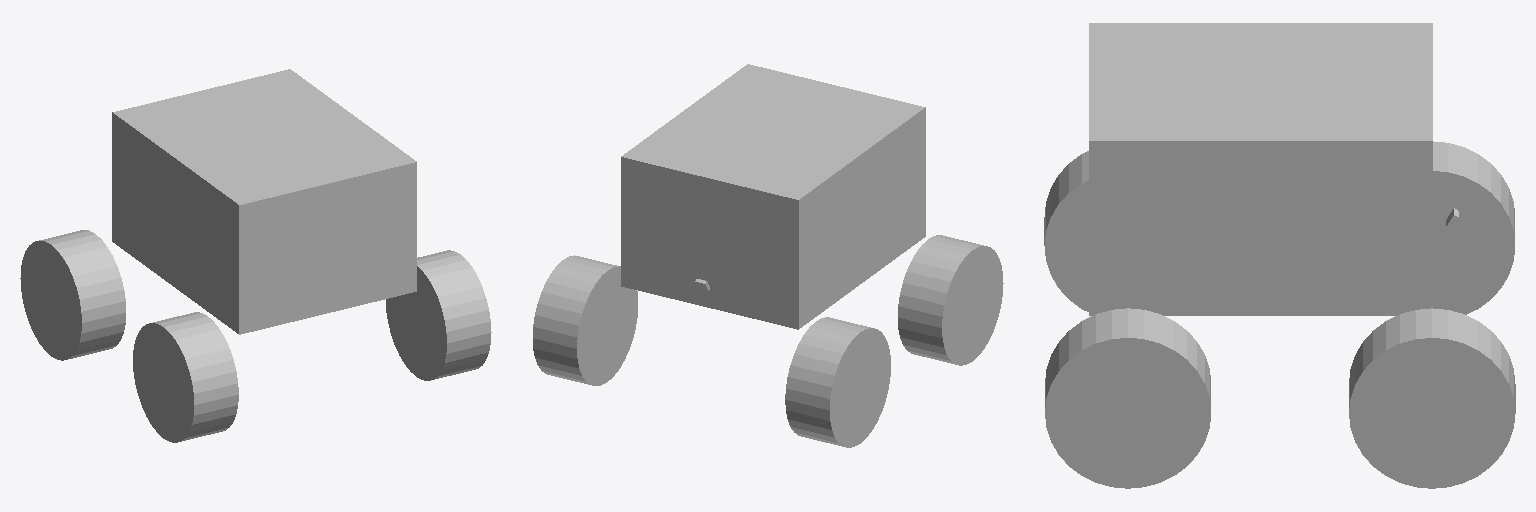
robot.urdf — rover:
<?xml version='1.0'?>
<robot name="rover" version="1.0">
  
  <!-- Joint Definitions -->
  <joint name="base_footprint_joint" type="fixed">
    <parent link="base_link"/>
    <child link="base_footprint"/>
    <origin xyz="0 0 0" rpy="0 0 0"/>
  </joint>

  <link name="base_footprint">
  </link>
  <link name="base_link">
  </link>

  <joint name="chassis_joint" type="fixed">
    <origin rpy="0.0 0.0 0.0" xyz="0.0 0.0 0.45"/>
    <parent link="base_link"/>
    <child link="chassis_link"/>
    <origin xyz="0 0 0"/>
  </joint>

  <!-- WHEEL JOINTS -->
  <joint name="back_left_wheel_link_joint" type="continuous">
    <limit effort="1.5" velocity="20"/>
    <origin rpy="0.000000 -1.570796 0.000000" xyz="-0.001015 0.000984 -0.224364"/>
    <parent link="back_left_wheel_connection_link"/>
    <child link="back_left_wheel_link"/>
    <axis xyz="0.000000 0.000000 1.000000"/>
  </joint>
  <joint name="back_right_wheel_link_joint" type="continuous">
    <limit effort="1.5" velocity="20"/>
    <origin rpy="0.000000 -1.570796 0.000000" xyz="-0.001015 0.000984 -0.224364"/>
    <parent link="back_right_wheel_connection_link"/>
    <child link="back_right_wheel_link"/>
    <axis xyz="0.000000 0.000000 1.000000"/>
  </joint>
  <joint name="front_left_wheel_link_joint" type="continuous">
    <limit effort="1.5" velocity="20"/>
    <origin rpy="0.000000 -1.570796 0.000000" xyz="-0.001015 0.000984 -0.224364"/>
    <parent link="front_left_wheel_connection_link"/>
    <child link="front_left_wheel_link"/>
    <axis xyz="0.000000 0.000000 1.000000"/>
  </joint>
  <joint name="front_right_wheel_link_joint" type="continuous">
    <limit effort="1.5" velocity="20"/>
    <origin rpy="0.000000 -1.570796 0.000000" xyz="-0.001015 0.000984 -0.224364"/>
    <parent link="front_right_wheel_connection_link"/>
    <child link="front_right_wheel_link"/>
    <axis xyz="0.000000 0.000000 1.000000"/>
  </joint>

  <!-- CONNECTION JOINTS -->
  <joint name="back_right_wheel_connection_link_joint" type="continuous">
    <limit effort="5" lower="-2.1" upper="2.1" velocity="6.28"/>
    <origin rpy="-0.000000 1.570796 0.000000" xyz="-0.039199 0.277668 0.039794"/>
    <parent link="right_rocker_link"/>
    <child link="back_right_wheel_connection_link"/>
    <axis xyz="0.000000 0.000000 1.000000"/>
  </joint>
  <joint name="front_left_wheel_connection_link_joint" type="continuous">
    <limit effort="5" lower="-2.1" upper="2.1" velocity="6.28"/>
    <origin rpy="-0.000000 1.570796 0.000000" xyz="-0.040213 -0.279250 -0.041051"/>
    <parent link="left_rocker_link"/>
    <child link="front_left_wheel_connection_link"/>
    <axis xyz="0.000000 0.000000 1.000000"/>
  </joint>
  <joint name="front_right_wheel_connection_link_joint" type="continuous">
    <limit effort="5" lower="-2.1" upper="2.1" velocity="6.28"/>
    <origin rpy="-0.000000 1.570796 0.000000" xyz="-0.039199 -0.279811 0.039779"/>
    <parent link="right_rocker_link"/>
    <child link="front_right_wheel_connection_link"/>
    <axis xyz="0.000000 0.000000 1.000000"/>
  </joint>
  <joint name="back_left_wheel_connection_link_joint" type="continuous">
    <limit effort="5" lower="-2.1" upper="2.1" velocity="6.28"/>
    <origin rpy="-0.000000 1.570796 0.000000" xyz="-0.040213 0.277630 -0.040843"/>
    <parent link="left_rocker_link"/>
    <child link="back_left_wheel_connection_link"/>
    <axis xyz="0.000000 0.000000 1.000000"/>
  </joint>

  <!-- ROCKER JOINT -->
  <joint name="left_rocker_link_joint" type="fixed">
    <!-- <limit lower="-1.000000" upper="1.000000" effort="0.000000" velocity="0.000000"/> -->
    <origin rpy="0.000000 -1.570796 0.000000" xyz="0.316939 0.035009 -0.031693"/>
    <parent link="chassis_link"/>
    <child link="left_rocker_link"/>
    <axis xyz="0.000000 0.000000 1.000000"/>
  </joint>
  <joint name="right_rocker_link_joint" type="fixed">
    <!-- <limit lower="-1.000000" upper="1.000000" effort="0.000000" velocity="0.000000"/> -->
    <origin rpy="0.000000 -1.570796 0.000000" xyz="-0.326391 0.034904 -0.032707"/>
    <parent link="chassis_link"/>
    <child link="right_rocker_link"/>
    <axis xyz="0.000000 0.000000 1.000000"/>
  </joint>

  <!-- Link Definitions -->
  <link name="back_left_wheel_connection_link">
    <collision name="back_left_wheel_connection_collision">
      <origin rpy="0.000000 0.000000 0.000000" xyz="-0.000000 -0.000000 -0.000000"/>
      <geometry>
        <mesh filename="file://[local-path]/FLARE_ws/src/rover/meshes/dae/rover_assm.263.dae" scale="0.001020 0.001020 0.001020"/>
      </geometry>
    </collision>
    <inertial>
      <inertia ixx="0.007968" ixy="0.000000" ixz="0.000000" iyy="0.006673" iyz="-0.002185" izz="0.001483"/>
      <origin rpy="0.000000 0.000000 0.000000" xyz="-0.034999 -0.000141 -0.080752"/>
      <mass value="1.000000"/>
    </inertial>
    <visual name="back_left_wheel_connection">
      <origin rpy="0.000000 0.000000 0.000000" xyz="0.000000 -0.000000 0.000000"/>
      <material name="RockerMat"/>
      <geometry>
        <mesh filename="file://[local-path]/FLARE_ws/src/rover/meshes/dae/rover_assm.266.dae" scale="0.001020 0.001020 0.001020"/>
      </geometry>
    </visual>
  </link>
  <gazebo reference="back_left_wheel_connection_link">
    <material>Gazebo/Blue</material>
  </gazebo>
  <link name="back_left_wheel_link">
    <collision name="back_left_wheel_collision">
      <origin rpy="-3.141593 -0.000000 -3.141593" xyz="-0.000149 -0.000000 -0.000229"/>
      <geometry>
        <cylinder radius="0.152590" length="0.127483"/>
      </geometry>
    </collision>
    <inertial>
      <inertia ixx="0.045943" ixy="-0.000000" ixz="0.000000" iyy="0.064649" iyz="0.000000" izz="0.064499"/>
      <origin rpy="0.000000 0.000000 0.000000" xyz="0.000000 0.000000 0.000000"/>
      <mass value="1.000000"/>
    </inertial>
    <visual name="back_left_wheel">
      <origin rpy="-3.141593 -0.000000 -3.141593" xyz="-0.000 -0.000000 -0.000"/>
      <material name="Dirty Chrome"/>
      <geometry>
        <cylinder radius="0.152590" length="0.127483"/>
      </geometry>
    </visual>
  </link>
  <gazebo reference="back_left_wheel_link">
    <material>Gazebo/Black</material>
  </gazebo>
  <link name="back_right_wheel_link">
    <collision name="back_right_wheel_collision">
      <origin rpy="-3.141593 -0.000000 -3.141593" xyz="-0.000000 0.000000 0.000000"/>
      <geometry>
        <cylinder radius="0.152590" length="0.127483"/>
      </geometry>
    </collision>
    <inertial>
      <inertia ixx="0.045943" ixy="-0.000000" ixz="0.000000" iyy="0.064649" iyz="0.000000" izz="0.064499"/>
      <origin rpy="0.000000 0.000000 0.000000" xyz="0.000000 0.000000 0.000000"/>
      <mass value="1.000000"/>
    </inertial>
    <visual name="back_right_wheel">
      <origin rpy="-3.141593 -0.000000 -3.141593" xyz="0.000000 0.000000 -0.000000"/>
      <material name="Dirty Chrome"/>
      <geometry>
        <cylinder radius="0.152590" length="0.127483"/>
      </geometry>
    </visual>
  </link>
  <gazebo reference="back_right_wheel_link">
    <material>Gazebo/Black</material>
  </gazebo>
  <link name="back_right_wheel_connection_link">
    <collision name="back_right_wheel_connection_collision">
      <origin rpy="0.000000 0.000000 0.000000" xyz="-0.000000 0.000000 0.000000"/>
      <geometry>
        <mesh filename="file://[local-path]/FLARE_ws/src/rover/meshes/dae/rover_assm.273.dae" scale="0.001020 0.001020 0.001020"/>
      </geometry>
    </collision>
    <inertial>
      <inertia ixx="0.007971" ixy="0.000000" ixz="-0.000000" iyy="0.006675" iyz="0.002187" izz="0.001484"/>
      <origin rpy="0.000000 0.000000 0.000000" xyz="0.033951 -0.000071 -0.080752"/>
      <mass value="1.000000"/>
    </inertial>
    <visual name="back_right_wheel_connection">
      <origin rpy="0.000000 0.000000 0.000000" xyz="0.000000 -0.000000 0.000000"/>
      <material name="RockerMat"/>
      <geometry>
        <mesh filename="file://[local-path]/FLARE_ws/src/rover/meshes/dae/rover_assm.272.dae" scale="0.001020 0.001020 0.001020"/>
      </geometry>
    </visual>
  </link>
  <gazebo reference="back_right_wheel_connection_link">
    <material>Gazebo/Blue</material>
  </gazebo>
  <link name="chassis_link">
    <collision name="chassis_collision">
      <origin rpy="0.000000 0.000000 -0.000000" xyz="-0.000000 0.036421 0.000000"/>
      <geometry>
        <box size="0.509469 0.629976 0.354739"/>
      </geometry>
    </collision>
    <inertial>
      <inertia ixx="0.045943" ixy="-0.000000" ixz="0.000000" iyy="0.064649" iyz="0.000000" izz="0.064499"/>
      <origin rpy="0.000000 0.000000 0.000000" xyz="0.000000 0.000000 0.000000"/>
      <mass value="1.000000"/>
    </inertial>
    <visual name="chassis">
      <origin rpy="0.000000 0.000000 0.000000" xyz="0.000000 0.000000 0.000000"/>
      <material name="MLI Foil for chassis"/>
      <geometry>
        <box size="0.509469 0.629976 0.354739"/>
      </geometry>
    </visual>
  </link>
  <gazebo reference="chassis_link">
    <material>Gazebo/Orange</material>
  </gazebo>
  <link name="front_left_wheel_connection_link">
    <collision name="front_left_wheel_connection_collision">
      <origin rpy="0.000000 0.000000 0.000000" xyz="0.000000 -0.000000 0.000000"/>
      <geometry>
        <mesh filename="file://[local-path]/FLARE_ws/src/rover/meshes/dae/rover_assm.266.dae" scale="0.001020 0.001020 0.001020"/>
      </geometry>
    </collision>
    <inertial>
      <inertia ixx="0.007968" ixy="0.000000" ixz="0.000000" iyy="0.006673" iyz="-0.002185" izz="0.001483"/>
      <origin rpy="0.000000 0.000000 0.000000" xyz="-0.035207 0.000317 -0.080752"/>
      <mass value="1.000000"/>
    </inertial>
    <visual name="front_left_wheel_connection">
      <origin rpy="0.000000 0.000000 0.000000" xyz="0.000000 -0.000000 0.000000"/>
      <material name="RockerMat"/>
      <geometry>
        <mesh filename="file://[local-path]/FLARE_ws/src/rover/meshes/dae/rover_assm.266.dae" scale="0.001020 0.001020 0.001020"/>
      </geometry>
    </visual>
  </link>
  <gazebo reference="front_left_wheel_connection_link">
    <material>Gazebo/Blue</material>
  </gazebo>
  <link name="front_left_wheel_link">
    <collision name="front_left_wheel_collision">
      <origin rpy="-3.141593 -0.000000 -3.141593" xyz="0.000149 -0.000000 0.000229"/>
      <geometry>
        <cylinder radius="0.152957" length="0.127790"/>
      </geometry>
    </collision>
    <inertial>
      <inertia ixx="0.008751" ixy="-0.000000" ixz="0.000000" iyy="0.008751" iyz="0.000000" izz="0.002031"/>
      <origin rpy="0.000000 0.000000 0.000000" xyz="0.000148 -0.000000 0.000229"/>
      <mass value="1.000000"/>
    </inertial>
    <visual name="front_left_wheel">
      <origin rpy="-3.141593 -0.000000 -3.141593" xyz="0.000149 -0.000000 0.000229"/>
      <material name="Dirty Chrome"/>
      <geometry>
        <cylinder radius="0.152590" length="0.127483"/>
      </geometry>
    </visual>
  </link>
  <gazebo reference="front_left_wheel_link">
    <material>Gazebo/Black</material>
  </gazebo>
  <link name="front_right_wheel_connection_link">
    <collision name="front_right_wheel_connection_collision">
      <origin rpy="0.000000 0.000000 0.000000" xyz="0.000000 -0.000000 0.000000"/>
      <geometry>
        <mesh filename="file://[local-path]/FLARE_ws/src/rover/meshes/dae/rover_assm.272.dae" scale="0.001020 0.001020 0.001020"/>
      </geometry>
    </collision>
    <inertial>
      <inertia ixx="0.007971" ixy="0.000000" ixz="-0.000000" iyy="0.006675" iyz="0.002187" izz="0.001484"/>
      <origin rpy="0.000000 0.000000 0.000000" xyz="0.033936 0.000985 -0.080752"/>
      <mass value="1.000000"/>
    </inertial>
    <visual name="front_right_wheel_connection">
      <origin rpy="0.000000 0.000000 -0.000000" xyz="0.000000 -0.000000 0.000000"/>
      <material name="RockerMat"/>
      <geometry>
        <mesh filename="file://[local-path]/FLARE_ws/src/rover/meshes/dae/rover_assm.272.dae" scale="0.001020 0.001020 0.001020"/>
      </geometry>
    </visual>
  </link>
  <gazebo reference="front_right_wheel_connection_link">
    <material>Gazebo/Blue</material>
  </gazebo>
  <link name="front_right_wheel_link">
    <collision name="front_right_wheel_collision">
      <origin rpy="0.000000 -0.000000 -0.000000" xyz="-0.001154 -0.000002 -0.000037"/>
      <geometry>
        <cylinder radius="0.151841" length="0.126857"/>
      </geometry>
    </collision>
    <inertial>
      <inertia ixx="0.008751" ixy="0.000000" ixz="0.000000" iyy="0.008751" iyz="-0.000000" izz="0.002031"/>
      <origin rpy="0.000000 0.000000 0.000000" xyz="0.000000 -0.000000 0.000000"/>
      <mass value="1.000000"/>
    </inertial>
    <visual name="front_right_wheel">
      <origin rpy="-3.141593 -0.000000 -3.141593" xyz="0.000000 -0.000000 0.000000"/>
      <material name="Dirty Chrome"/>
      <geometry>
        <cylinder radius="0.152590" length="0.127483"/>
      </geometry>
    </visual>
  </link>
  <gazebo reference="front_right_wheel_link">
    <material>Gazebo/Black</material>
  </gazebo>
  <link name="left_rocker_link">
    <collision name="left_rocker_collision">
      <origin rpy="-0.000000 1.570796 0.000000" xyz="-0.000000 -0.000000 0.000000"/>
      <geometry>
        <mesh filename="file://[local-path]/FLARE_ws/src/rover/meshes/dae/rover_assm.277.dae" scale="0.001020 0.001020 0.001020"/>
      </geometry>
    </collision>
    <inertial>
      <inertia ixx="0.001331" ixy="-0.000094" ixz="0.000210" iyy="0.031629" iyz="0.000565" izz="0.031481"/>
      <origin rpy="0.000000 0.000000 0.000000" xyz="-0.042253 0.002366 -0.001819"/>
      <mass value="1.000000"/>
    </inertial>
    <visual name="left_rocker">
      <origin rpy="-0.000000 1.570796 0.000000" xyz="-0.000000 -0.000000 0.000000"/>
      <material name="RockerMat"/>
      <geometry>
        <mesh filename="file://[local-path]/FLARE_ws/src/rover/meshes/dae/rover_assm.277.dae" scale="0.001020 0.001020 0.001020"/>
      </geometry>
    </visual>
  </link>
  <gazebo reference="left_rocker_link">
    <material>Gazebo/White</material>
  </gazebo>
  <link name="right_rocker_link">
    <collision name="right_rocker_collision">
      <origin rpy="0.000000 1.570796 0.000000" xyz="-0.000000 0.000000 -0.000000"/>
      <geometry>
        <mesh filename="file://[local-path]/FLARE_ws/src/rover/meshes/dae/rover_assm.267.dae" scale="0.001020 0.001020 0.001020"/>
      </geometry>
    </collision>
    <inertial>
      <inertia ixx="0.001330" ixy="0.000096" ixz="0.000215" iyy="0.031632" iyz="-0.000565" izz="0.031485"/>
      <origin rpy="0.000000 0.000000 0.000000" xyz="-0.041239 0.002470 0.001819"/>
      <mass value="1.000000"/>
    </inertial>
    <visual name="right_rocker">
      <origin rpy="-0.000000 1.570796 0.000000" xyz="-0.000000 0.000000 -0.000000"/>
      <material name="RockerMat"/>
      <geometry>
        <mesh filename="file://[local-path]/FLARE_ws/src/rover/meshes/dae/rover_assm.267.dae" scale="0.001020 0.001020 0.001020"/>
      </geometry>
    </visual>
  </link>
  <gazebo reference="right_rocker_link">
    <material>Gazebo/White</material>
  </gazebo>

  <!-- Lidar -->
  <!-- <joint name="laser_joint" type="fixed">
    <parent link="chassis_link"/>
    <child link="laser_frame"/>
    <origin xyz="0 0.27 0.2" rpy="0 0 0"/>
  </joint>

  <link name="laser_frame">
    <visual>
      <geometry>
        <cylinder radius="0.05" length="0.04"/>
      </geometry>
    </visual>
    <collision>
      <geometry>
        <cylinder radius="0.05" length="0.04"/>
      </geometry>
    </collision>
    <inertial>
      <inertia ixx="4.17e-05" ixy="0.0" ixz="0.0" iyy="4.17e-05" iyz="0.0" izz="1.25e-06"/>
      <origin xyz="0 0 0" rpy="0 0 0"/>
      <mass value="0.050"/>
    </inertial>
  </link> -->
  
  <!-- <gazebo reference="laser_frame">
    <sensor type="ray" name="laser_frame-VLP16">
      <pose>0 0 0 0 0 0</pose>
      <visualize>true</visualize>
      <update_rate>10</update_rate>
      <ray>
        <scan>
          <horizontal>
            <samples>200</samples>
            <resolution>1</resolution>
            <min_angle>0.698132</min_angle>
            <max_angle>2.44346</max_angle>
          </horizontal>
          <vertical>
            <samples>50</samples>
            <resolution>1</resolution>
            <min_angle>-0.6108651</min_angle>
            <max_angle>0.261799</max_angle>
          </vertical>
        </scan>
        <range>
          <min>0.9</min>
          <max>10.0</max>
          <resolution>0.001</resolution>
        </range>
        <noise>
          <type>gaussian</type>
          <mean>0.0</mean>
          <stddev>0.0</stddev>
        </noise>
      </ray>
      <plugin name="gazebo_ros_laser_controller" filename="libgazebo_ros_velodyne_laser.so">
        <topicName>/velodyne_points</topicName>
        <frameName>velodyne</frameName>
        <min_range>0.9</min_range>
        <max_range>10.0</max_range>
        <gaussianNoise>0.008</gaussianNoise>
      </plugin>
    </sensor>
  </gazebo> -->

  <!-- ROS2 Control -->
  <ros2_control name="GazeboSystem" type="system">
    <hardware>
      <plugin>gazebo_ros2_control/GazeboSystem</plugin>
    </hardware>
    <!-- Wheels -->
    <joint name="front_left_wheel_link_joint">
      <command_interface name="velocity">
        <param name="min">-10</param>
        <param name="max">10</param>
      </command_interface>
      <state_interface name="velocity"/>
      <state_interface name="position"/>
    </joint>
    <joint name="front_right_wheel_link_joint">
      <command_interface name="velocity">
        <param name="min">-10</param>
        <param name="max">10</param>
      </command_interface>
      <state_interface name="velocity"/>
      <state_interface name="position"/>
    </joint>
    <joint name="back_left_wheel_link_joint">
      <command_interface name="velocity">
        <param name="min">-10</param>
        <param name="max">10</param>
      </command_interface>
      <state_interface name="velocity"/>
      <state_interface name="position"/>
    </joint>
    <joint name="back_right_wheel_link_joint">
      <command_interface name="velocity">
        <param name="min">-10</param>
        <param name="max">10</param>
      </command_interface>
      <state_interface name="velocity"/>
      <state_interface name="position"/>
    </joint>
    <!-- Connectors -->
    <joint name="front_left_wheel_connection_link_joint">
      <command_interface name="position">
        <param name="min">-10</param>
        <param name="max">10</param>
      </command_interface>
      <state_interface name="velocity"/>
      <state_interface name="position"/>
    </joint>
    <joint name="front_right_wheel_connection_link_joint">
      <command_interface name="position">
        <param name="min">-10</param>
        <param name="max">10</param>
      </command_interface>
      <state_interface name="velocity"/>
      <state_interface name="position"/>
    </joint>
    <joint name="back_left_wheel_connection_link_joint">
      <command_interface name="position">
        <param name="min">-10</param>
        <param name="max">10</param>
      </command_interface>
      <state_interface name="velocity"/>
      <state_interface name="position"/>
    </joint>
    <joint name="back_right_wheel_connection_link_joint">
      <command_interface name="position">
        <param name="min">-10</param>
        <param name="max">10</param>
      </command_interface>
      <state_interface name="velocity"/>
      <state_interface name="position"/>
    </joint>
    <!-- Rockers -->
    <!-- <joint name="left_rocker_link_joint">
      <command_interface name="velocity">
        <param name="min">-10</param>
        <param name="max">10</param>
      </command_interface>
      <state_interface name="velocity"/>
      <state_interface name="position"/>
    </joint>
    <joint name="right_rocker_link_joint">
      <command_interface name="velocity">
        <param name="min">-10</param>
        <param name="max">10</param>
      </command_interface>
      <state_interface name="velocity"/>
      <state_interface name="position"/>
    </joint> -->
  </ros2_control>
  <gazebo>
    <plugin name="gazebo_ros2_control" filename="libgazebo_ros2_control.so">
      <parameters>[local-path]/FLARE_ws/install/rover/share/rover/config/controllers.yaml</parameters>
      <!-- <parameters>$(find rover)/config/gaz_ros2_ctl_use_sim.yaml</parameters> -->
    </plugin>
  </gazebo>

  <!-- DEPTH CAMERA -->
  <joint name="camera_joint" type="fixed">
    <parent link="chassis_link"/>
    <child link="camera_link"/>
    <origin xyz="0 0.35 -0.1" rpy="0 0.523599 1.570796"/>
  </joint>

  <link name="camera_link">
    <visual>
      <geometry>
        <box size="0.010 0.03 0.03"/>
      </geometry>
      <material name="RockerMat"/>
    </visual>
  </link>

  <joint name="camera_optical_joint" type="fixed">
    <parent link="camera_link"/>
    <child link="camera_link_optical"/>
    <origin xyz="0 0 0" rpy="1.570796 3.141592 1.570796"/>
  </joint>

  <link name="camera_link_optical"></link>

  <gazebo reference="camera_link">

    <sensor name="camera" type="depth">
      <pose> 0 0 0 0 0 0 </pose>
      <visualize>true</visualize>
      <update_rate>10</update_rate>
      <camera>
        <horizontal_fov>1.5</horizontal_fov>
        <image>
          <format>B8G8R8</format>
          <width>1490</width>
          <height>1080</height>
        </image>
        <clip>
          <near>0.02</near>
          <far>8.0</far>
        </clip>
      </camera>
      <plugin name="camera_controller" filename="libgazebo_ros_camera.so">
        <frame_name>camera_link_optical</frame_name>
        <min_depth>0.01</min_depth>
        <max_depth>10.0</max_depth>
      </plugin>
    </sensor>
  </gazebo>

  <!-- Material Definitions -->
  <material name="Dirty Chrome">
    <color rgba="0.800000 0.800000 0.800000 1.000000"/>
  </material>
  <material name="MLI Foil for chassis">
    <color rgba="0.800000 0.800000 0.800000 1.000000"/>
  </material>
  <material name="RockerMat">
    <color rgba="0.800000 0.800000 0.800000 1.000000"/>
  </material>
</robot>

--- Facts derived from the render (not from the file) ---
Views: 3 orthographic renders of the robot side by side, from view 1: azimuth 30°, elevation 25°; view 2: azimuth 150°, elevation 25°; view 3: azimuth 270°, elevation 25°.
Model rover with 15 links and 14 joints (8 continuous, 6 fixed), rooted at base_link, posed all joints at 0.
Visible links, largest first — view 1: chassis_link, front_right_wheel_link, back_right_wheel_link, front_left_wheel_link; view 2: chassis_link, back_right_wheel_link, front_right_wheel_link, back_left_wheel_link; view 3: chassis_link, back_left_wheel_link, front_left_wheel_link, back_right_wheel_link, front_right_wheel_link.
Link boxes in pixels (<box>): chassis_link: <box>112,69,416,334</box>; front_right_wheel_link: <box>133,312,238,442</box>; back_right_wheel_link: <box>20,230,125,360</box>; front_left_wheel_link: <box>386,250,491,380</box>; chassis_link: <box>621,64,925,329</box>; back_right_wheel_link: <box>785,317,890,447</box>; front_right_wheel_link: <box>898,235,1003,365</box>; back_left_wheel_link: <box>533,255,637,385</box>; chassis_link: <box>1089,23,1432,315</box>; back_left_wheel_link: <box>1349,308,1515,488</box>; front_left_wheel_link: <box>1045,308,1210,488</box>; back_right_wheel_link: <box>1433,141,1514,314</box>; front_right_wheel_link: <box>1044,151,1088,311</box>.
Size in the robot's own frame: 0.8515 by 0.8627 by 0.6262 metres.
Geometry: only primitive shapes (box / cylinder / sphere) drawn; not drawn: 6 mesh visuals (reference in a form the renderer does not follow).
